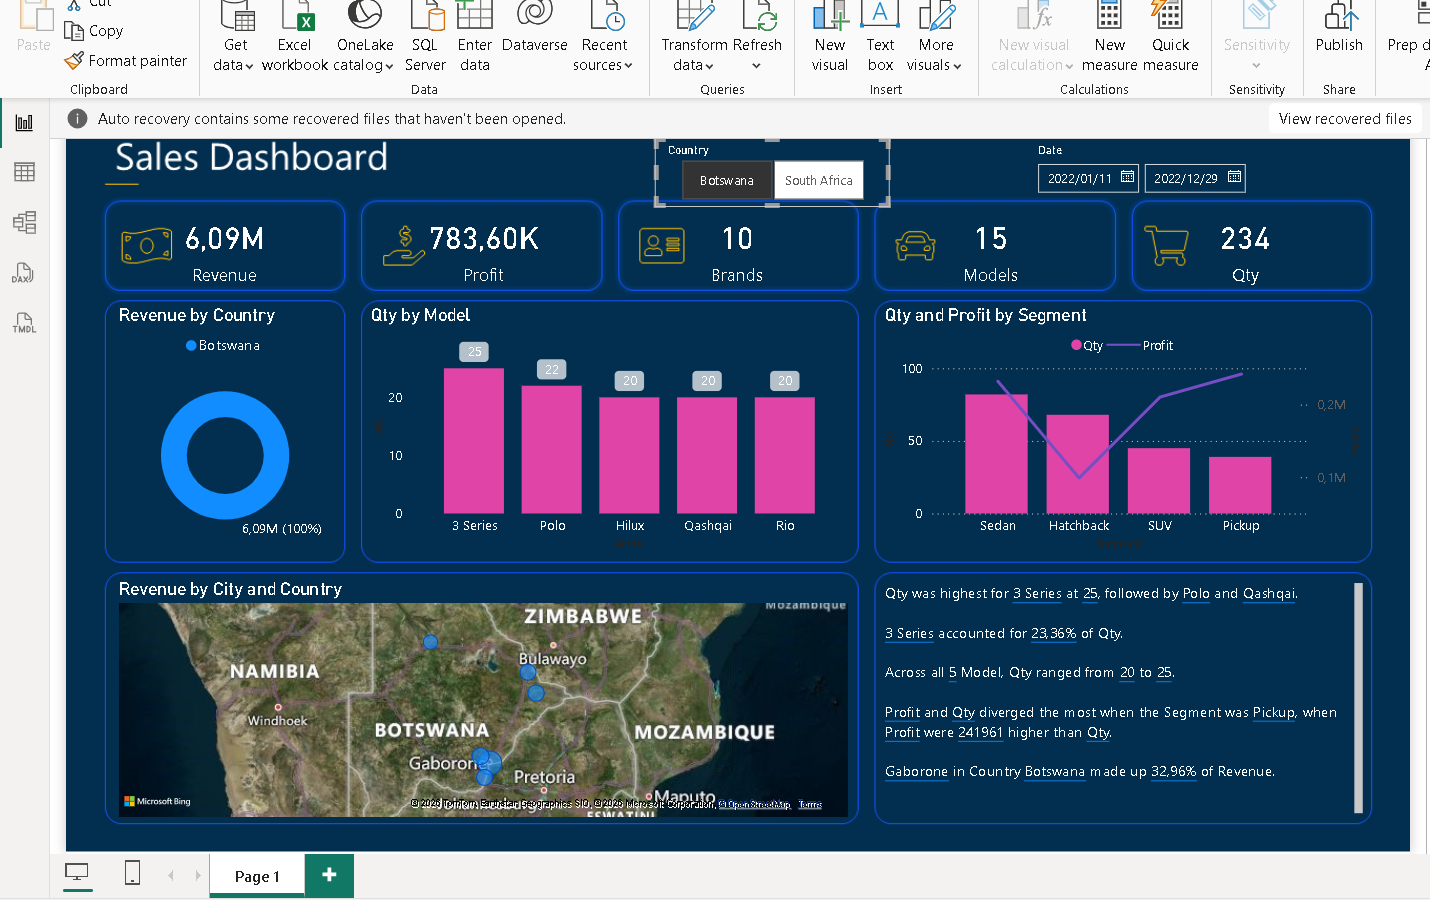

Layout of this report page (visuals, bound fields, positions):
{"tool":"powerbi","page":{"name":"Page 1","canvas":[1280,720],"ordinal":0},"visuals":[{"type":"donutChart","fields":{"Category":["dimDealers.Country"],"Y":["0-measures.Revenue"]},"box":[45.2,196.4,213.1,239.3],"z":0},{"type":"lineClusteredColumnComboChart","fields":{"Y":["0-measures.Qty"],"Category":["dimModels.Model"]},"box":[285.7,196.4,464.3,239.3],"z":1000},{"type":"lineClusteredColumnComboChart","fields":{"Y":["0-measures.Qty"],"Y2":["0-measures.Profit"],"Category":["dimModels.Segment"]},"box":[775,196.4,465.5,239.3],"z":2000},{"type":"map","fields":{"Size":["0-measures.Revenue"],"Category":["dimDealers.City"],"Series":["dimDealers.Country"]},"box":[45.2,457.1,704.8,232.1],"z":3000},{"type":"card","fields":{"Values":["0-measures.Revenue"]},"box":[45.6,103.3,212.2,80],"z":4000},{"type":"card","fields":{"Values":["0-measures.Profit"]},"box":[291.1,103.3,212.2,80],"z":5000},{"type":"card","fields":{"Values":["Count(dimModels.Model)"]},"box":[775.6,103.3,212.2,80],"z":6000},{"type":"card","fields":{"Values":["Count(dimModels.Brand)"]},"box":[533.3,103.3,212.2,80],"z":7000},{"type":"card","fields":{"Values":["0-measures.Qty"]},"box":[1017.8,103.3,212.2,80],"z":8000},{"type":"slicer","fields":{"Values":["factSales.Date"]},"box":[913.3,37.8,254.4,65.6],"z":9000},{"type":"slicer","fields":{"Values":["dimDealers.Country"]},"box":[561.1,37.8,223.3,65.6],"z":10000},{"type":"textbox","box":[775,457,465,232],"z":11000}]}

Visuals, with their boxes on the page's 1280x720 design canvas (x1, y1, x2, y2). These are canvas units, not pixel positions in the 1430x900 screenshot, which may show the page scaled, cropped or inside an application window:
donutChart - dimDealers.Country x 0-measures.Revenue: <region>45, 196, 258, 436</region>
lineClusteredColumnComboChart - 0-measures.Qty x dimModels.Model: <region>286, 196, 750, 436</region>
lineClusteredColumnComboChart - 0-measures.Qty x 0-measures.Profit: <region>775, 196, 1240, 436</region>
map - 0-measures.Revenue x dimDealers.City: <region>45, 457, 750, 689</region>
card - 0-measures.Revenue: <region>46, 103, 258, 183</region>
card - 0-measures.Profit: <region>291, 103, 503, 183</region>
card - Count(dimModels.Model): <region>776, 103, 988, 183</region>
card - Count(dimModels.Brand): <region>533, 103, 746, 183</region>
card - 0-measures.Qty: <region>1018, 103, 1230, 183</region>
slicer - factSales.Date: <region>913, 38, 1168, 103</region>
slicer - dimDealers.Country: <region>561, 38, 784, 103</region>
textbox: <region>775, 457, 1240, 689</region>
